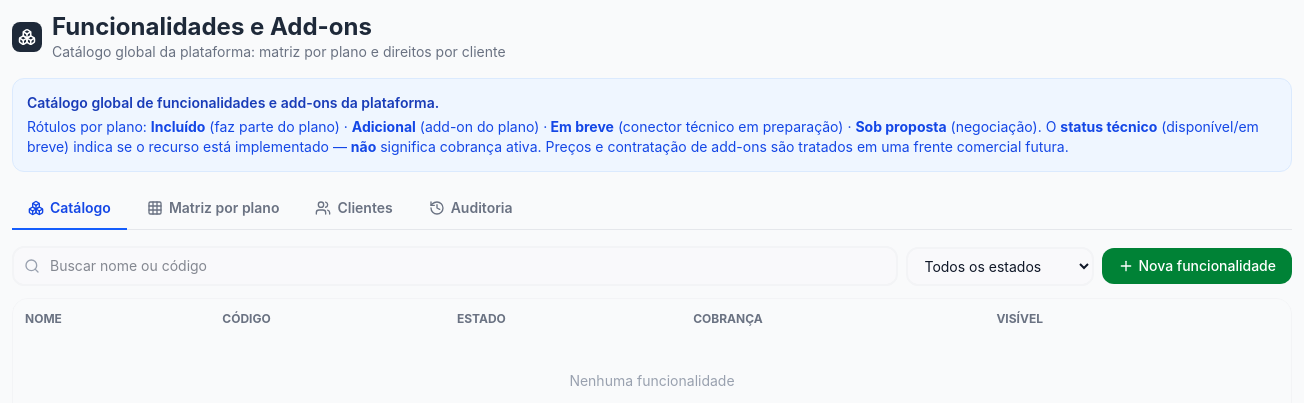
Test: PainelFuncionalidades — busca de clientes › erro de rede mostra erro (NÃO "nenhuma empresa"); vazio válido mostra "nenhuma"
Click the button "Clientes". click: (354, 209)
box: [299, 188, 409, 230]
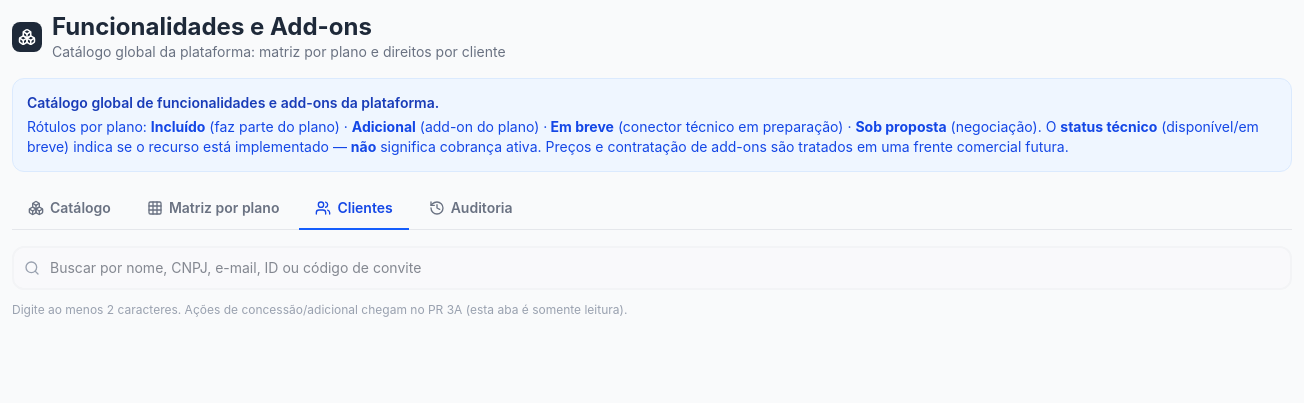
Type "alfa" into the field named "buscar cliente". click: (652, 268)
box: [12, 246, 1292, 290]
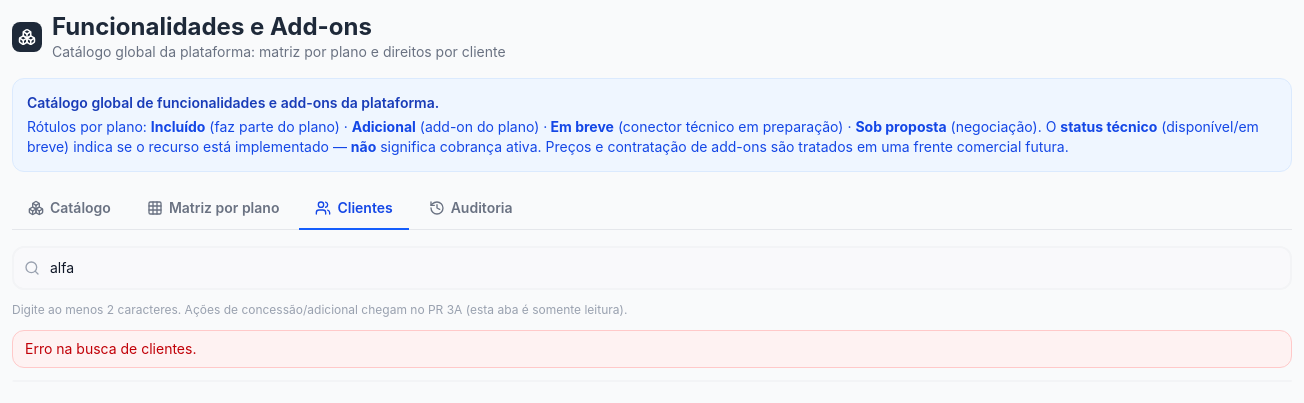
Check: the text "Erro na busca de clientes." is shown, box [12, 330, 1292, 368]
